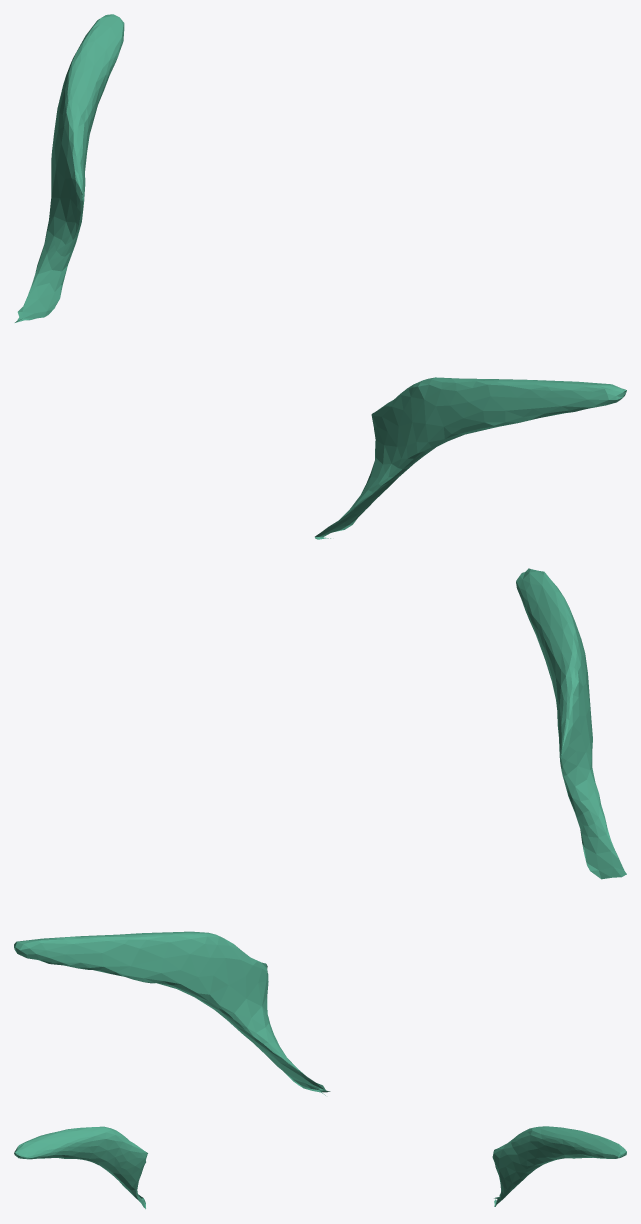
3 views of the same model, one above another, from view 1: azimuth 30°, elevation 25°; view 2: azimuth 150°, elevation 25°; view 3: azimuth 270°, elevation 25° (orthographic). The views are drawn at different scales.
Parts seen in each view (by area): view 1: 675.obj; view 2: 675.obj; view 3: 675.obj.
Part boxes in pixels (left/top/right/bottom): 675.obj: left=15, top=14, right=626, bottom=539; 675.obj: left=14, top=568, right=626, bottom=1095; 675.obj: left=14, top=1126, right=626, bottom=1209.
Size of the model in its own units: 1617 by 1386 by 6811.
